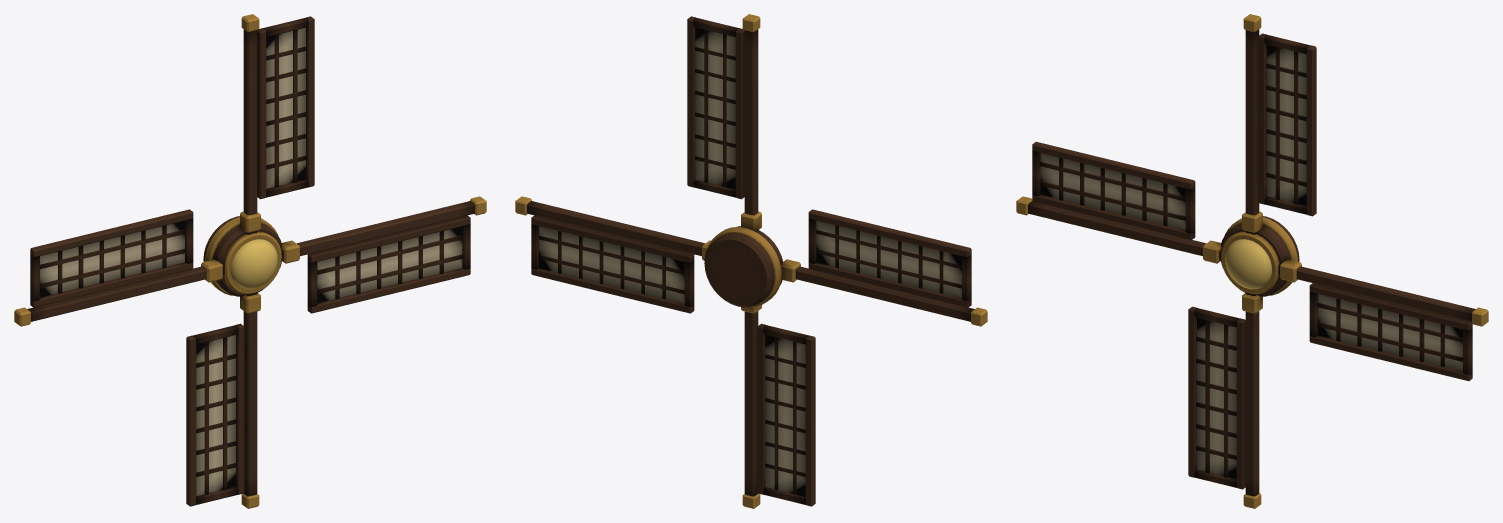
File: windmill_sails.glb
3 views of the same model, side by side, from view 1: azimuth 30°, elevation 25°; view 2: azimuth 150°, elevation 25°; view 3: azimuth 330°, elevation 25° (orthographic).
Visible parts, largest first — view 1: WindmillSails_Blade, WindmillSails_Hub, WindmillSails_Cap; view 2: WindmillSails_Blade, WindmillSails_Hub; view 3: WindmillSails_Blade, WindmillSails_Hub, WindmillSails_Cap.
Part boxes in pixels (left/top/right/bottom): WindmillSails_Blade: left=14, top=14, right=486, bottom=508; WindmillSails_Hub: left=203, top=216, right=281, bottom=296; WindmillSails_Cap: left=231, top=239, right=277, bottom=289; WindmillSails_Blade: left=515, top=14, right=987, bottom=508; WindmillSails_Hub: left=704, top=226, right=782, bottom=307; WindmillSails_Blade: left=1016, top=14, right=1488, bottom=508; WindmillSails_Hub: left=1221, top=216, right=1299, bottom=296; WindmillSails_Cap: left=1225, top=239, right=1271, bottom=289.
Size of the model in its own units: 0.16 by 0.16 by 0.015.
